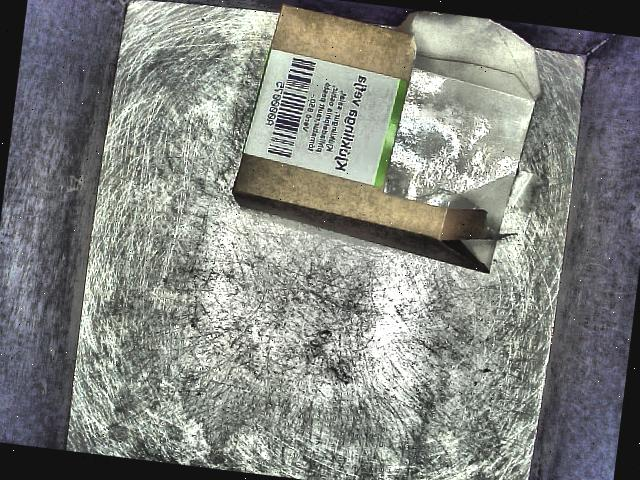Paper: (220, 0, 553, 291)
